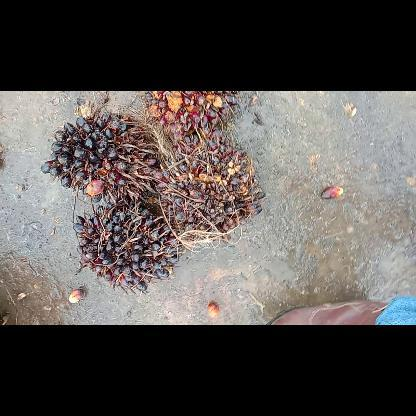TBS abnormal: (152, 142, 268, 244), (70, 193, 182, 297)
TBS masak: (38, 108, 166, 198), (140, 91, 242, 155)
